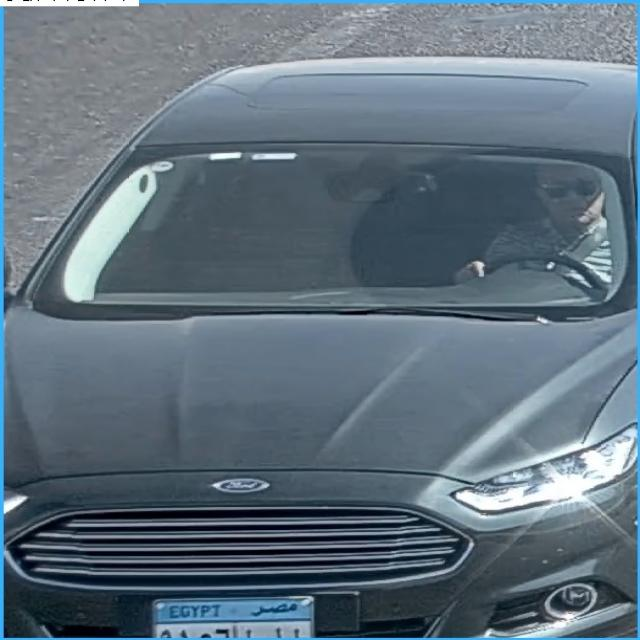windshield: (68, 153, 628, 310)
